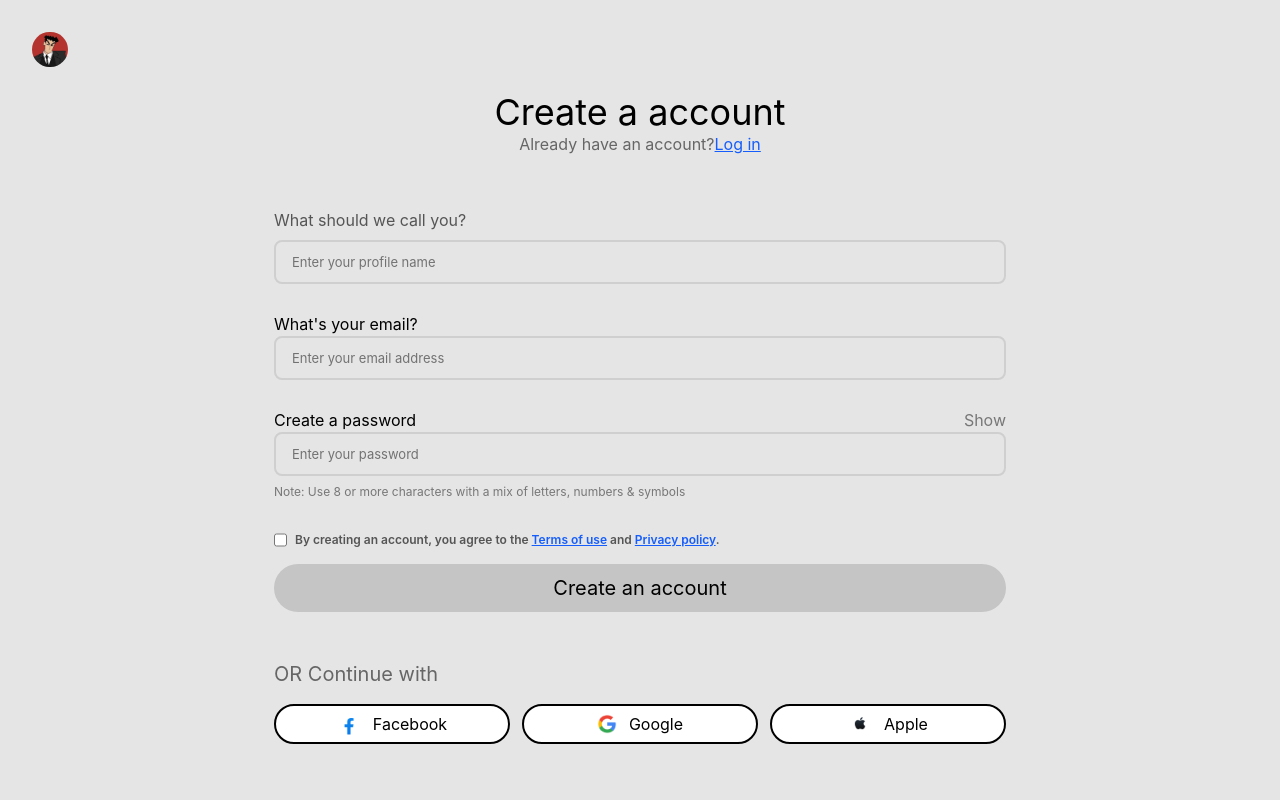
Scenario: Firebase Signup › shows an error when the email is already registered
The image size is (1280, 800).
In the field with placeholder "Enter your profile name": (640, 262) [274, 240, 1006, 284], type "Ayush"
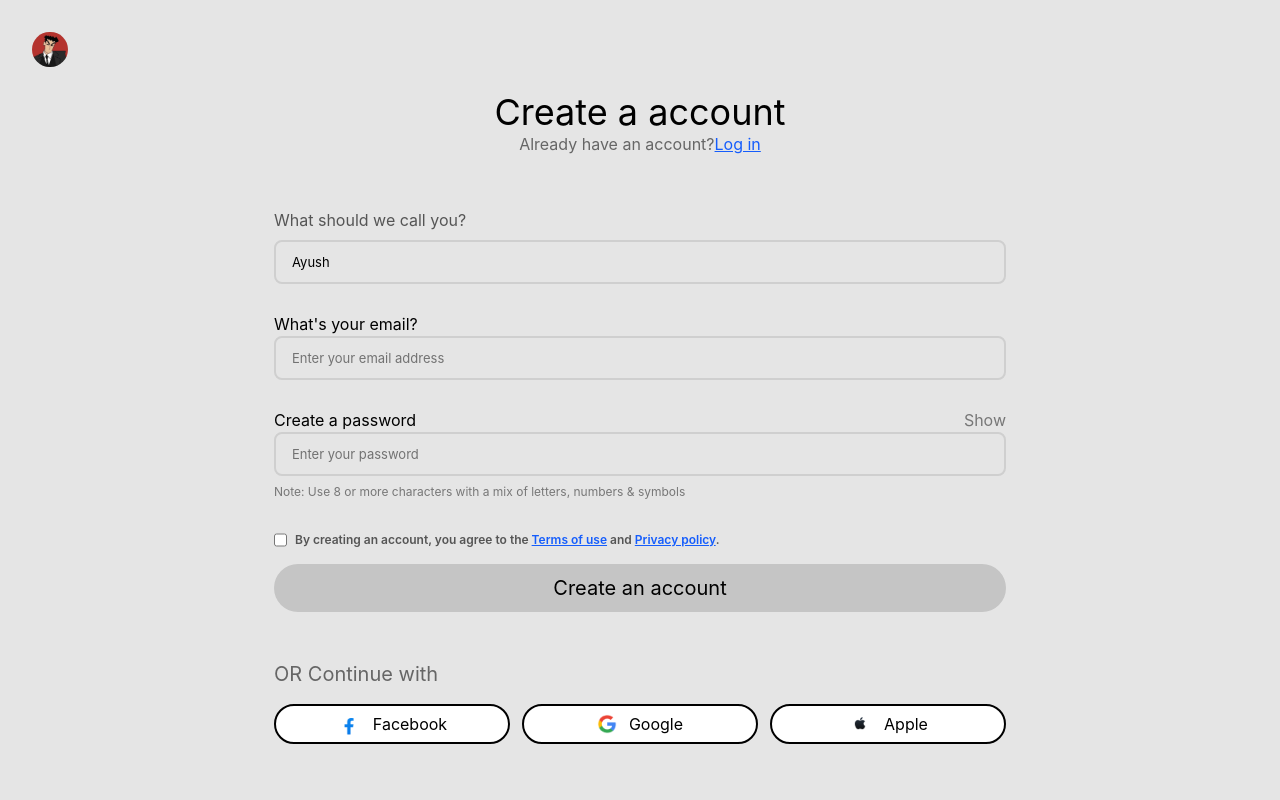
In the field with placeholder "Enter your email address": (640, 358) [274, 336, 1006, 380], type "ayush@example.com"
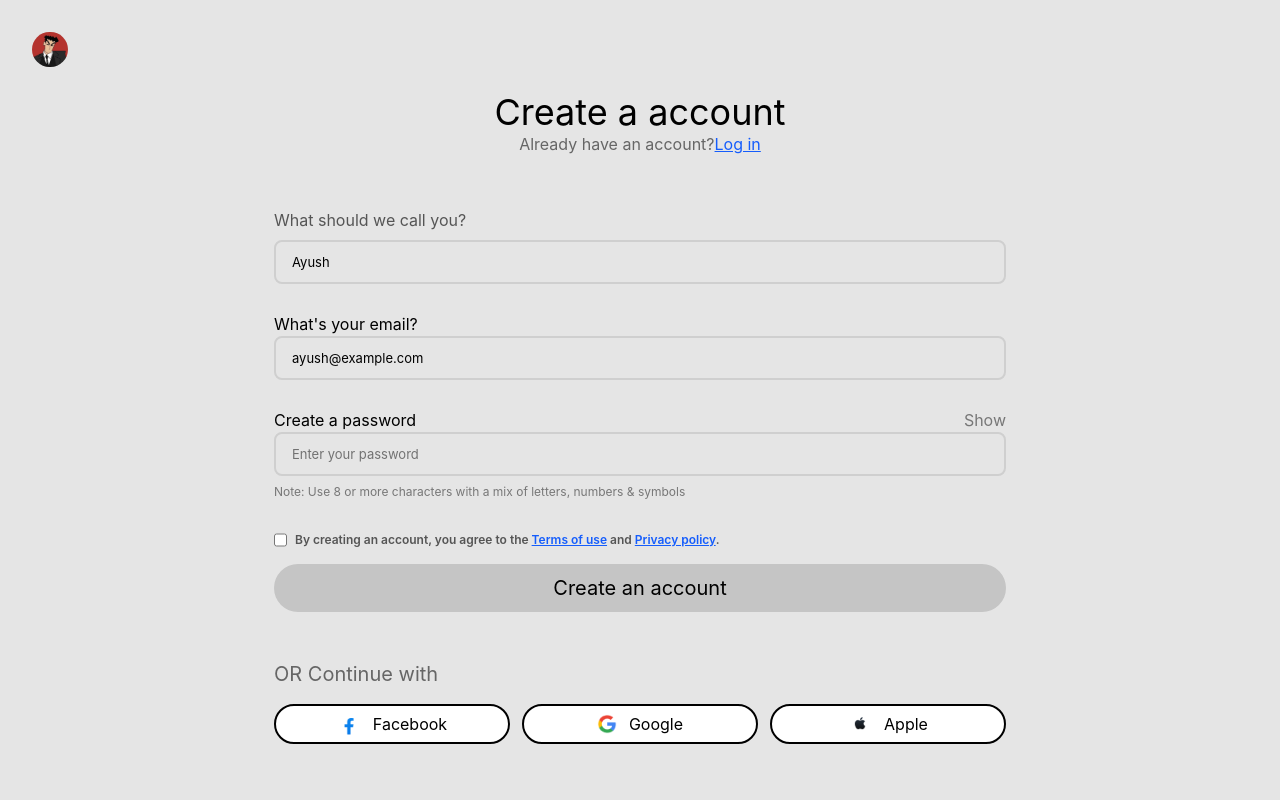
In the password field with placeholder "Enter your password": (640, 454) [274, 432, 1006, 476], type "Hello@123"
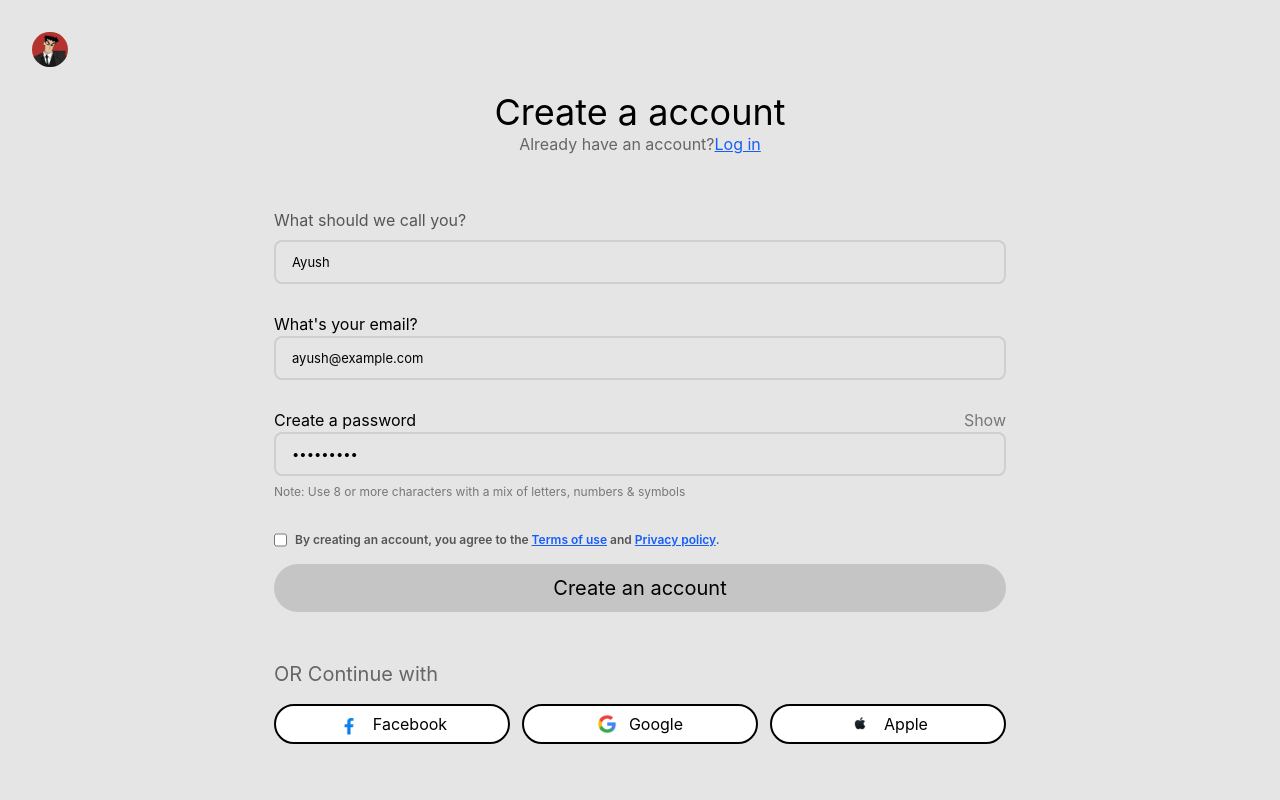
Click the checkbox: click(280, 540) [274, 532, 287, 548]
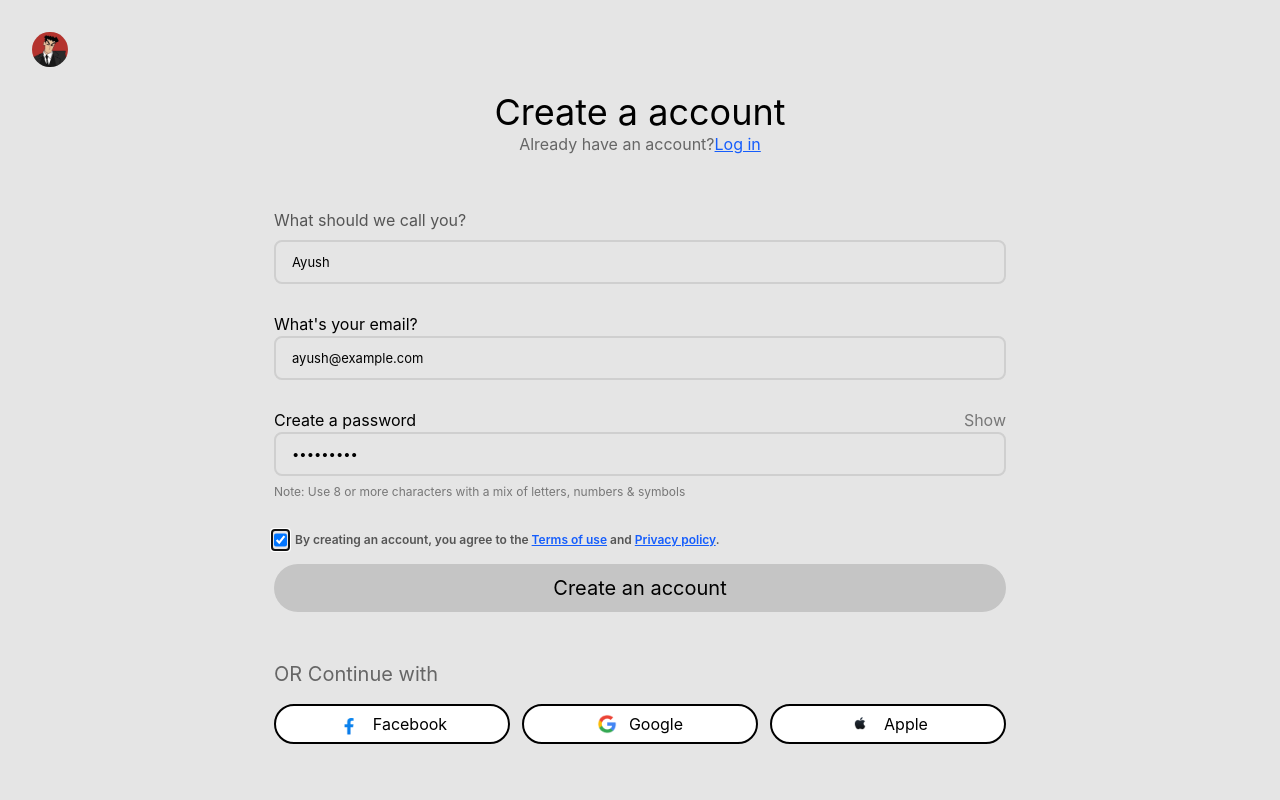
Click the button "Create an account": click(640, 588) [274, 564, 1006, 612]
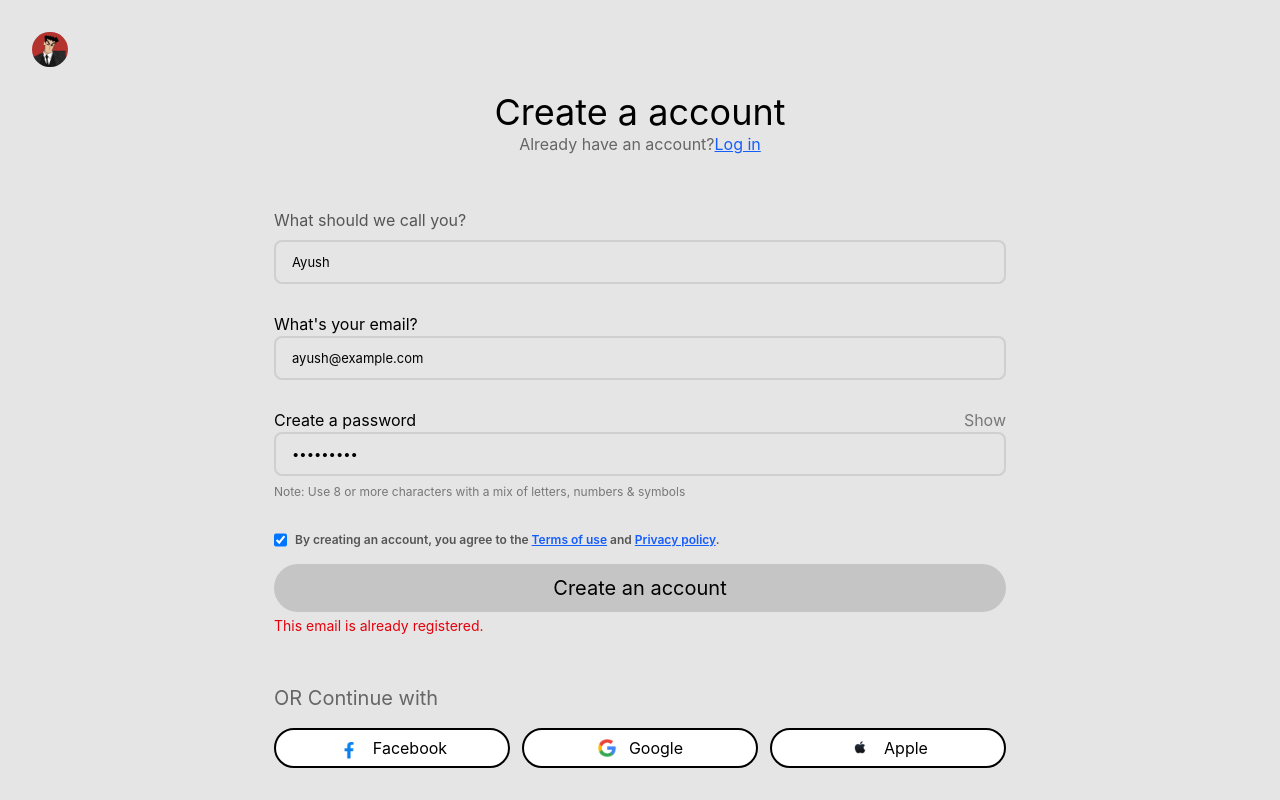
Expected: the text "This email is already registered." is shown, [274, 617, 484, 634]
